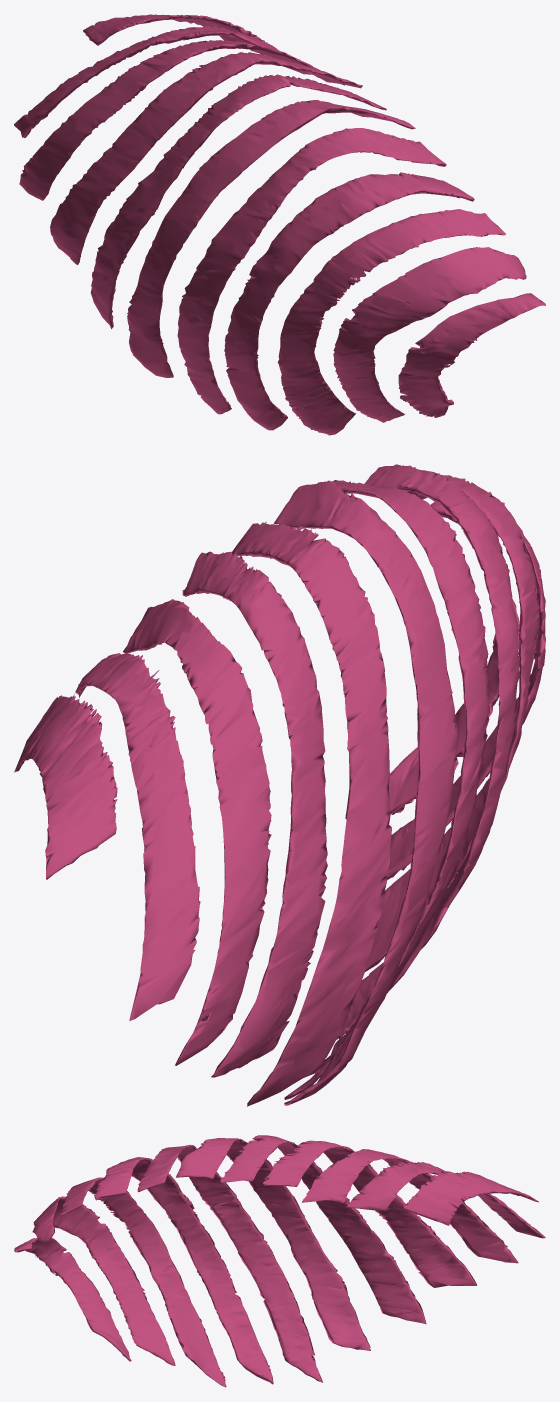
The picture shows the model from 3 angles, top to bottom: view 1: azimuth 30°, elevation 25°; view 2: azimuth 150°, elevation 25°; view 3: azimuth 270°, elevation 25°; orthographic projection. The views are drawn at different scales.
Parts seen in each view (by area): view 1: 右侧肋间外肌; view 2: 右侧肋间外肌; view 3: 右侧肋间外肌.
Boxes of the visible parts, x1=… form: 右侧肋间外肌: x1=14, y1=14, x2=545, y2=435; 右侧肋间外肌: x1=14, y1=464, x2=545, y2=1106; 右侧肋间外肌: x1=14, y1=1135, x2=545, y2=1387.
Bounding box in the file's own units: 0.1648 × 0.2873 × 0.5475.
